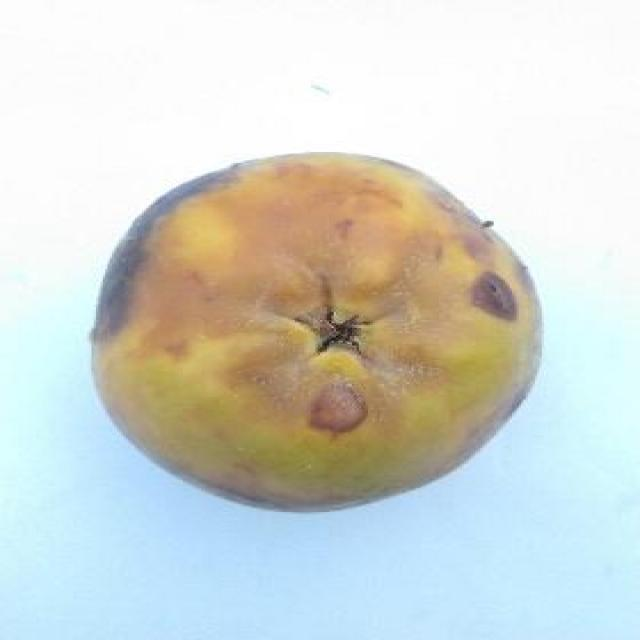Apple: (95, 148, 540, 513)
